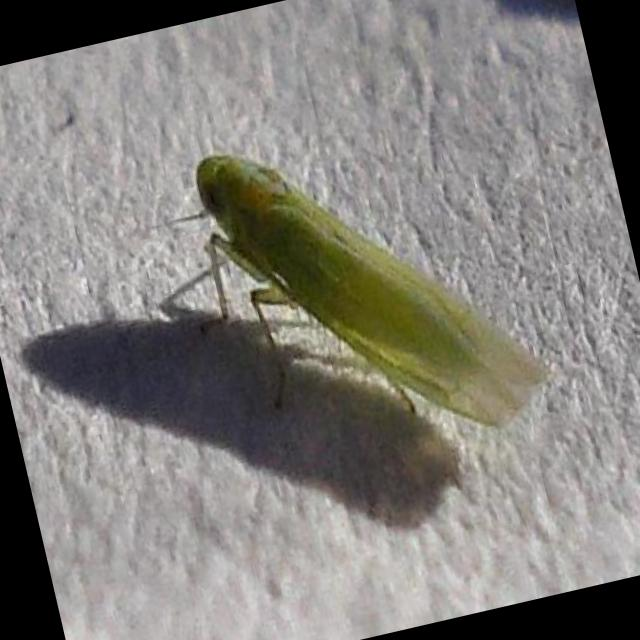green-leafhopper: (177, 92, 537, 490)
